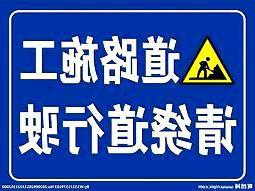sign: (7, 6, 248, 182)
